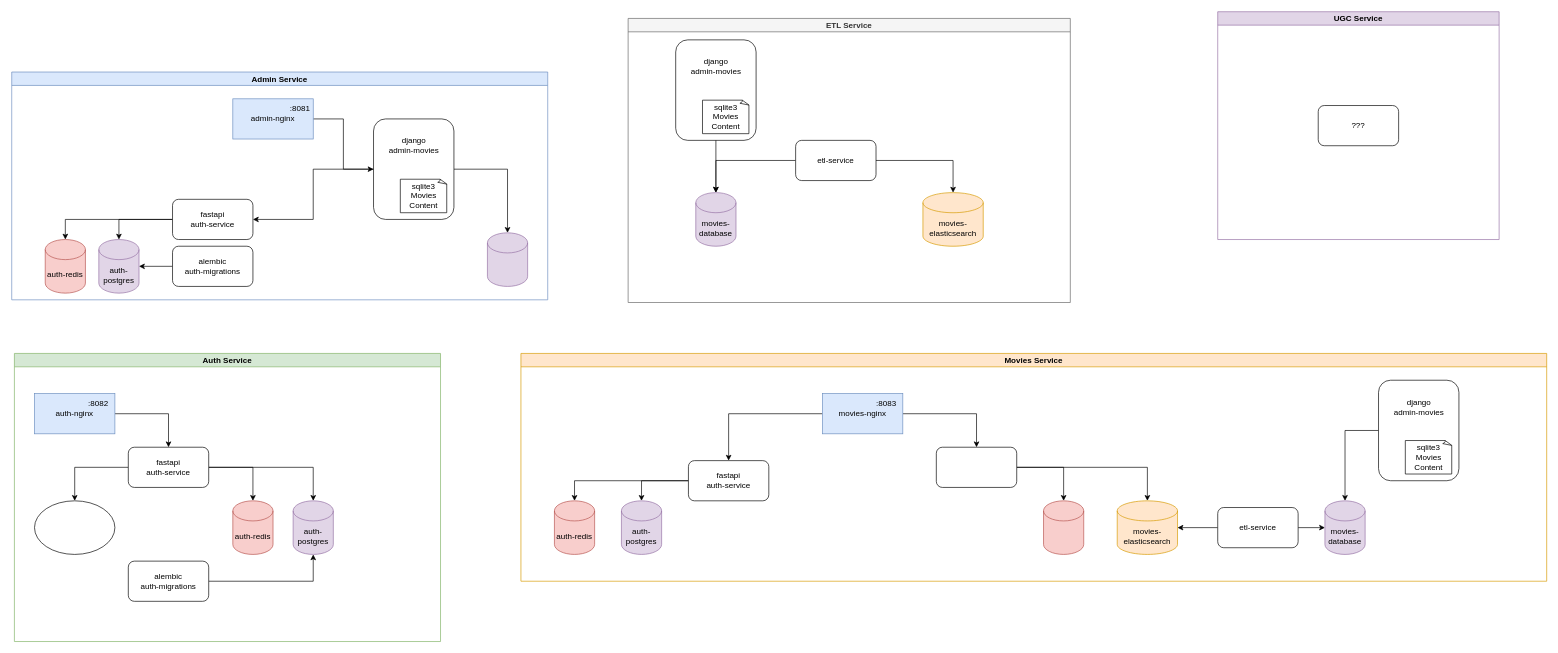
Some shapes in this 1558 by 653 pixel diagram are drawn without their labels. The centre of each missing label's shape, as x and y in pixels:
admin-database: the point at 507,259
auth-jaeger: the point at 74,527
fastapi movies-backend: the point at 976,467
movies-redis: the point at 1063,527
